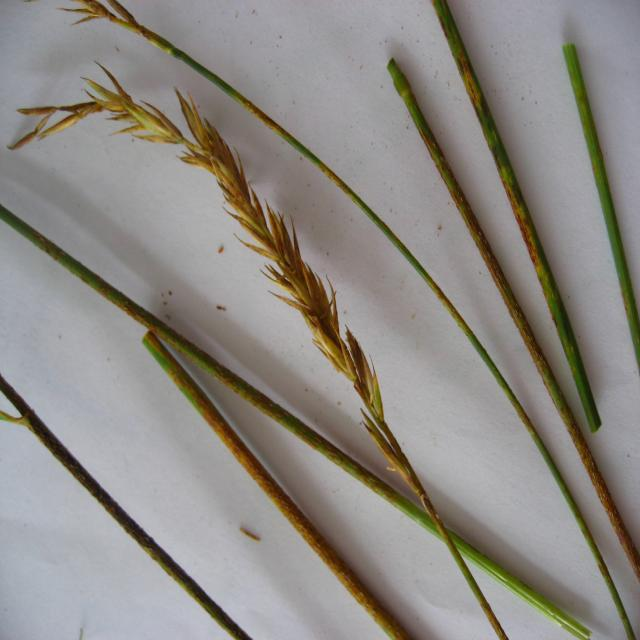wheat-stemrust: (402, 101, 640, 580), (147, 339, 409, 636), (440, 17, 605, 434)
